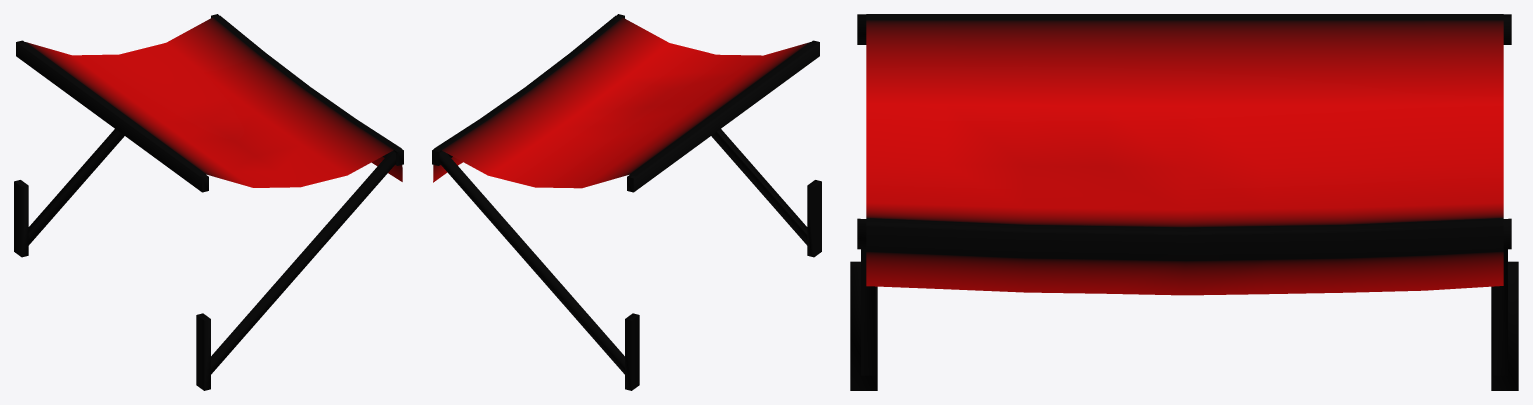
Rendered from tent_2.fbx.
3 views of the same model, side by side, from view 1: azimuth 30°, elevation 25°; view 2: azimuth 150°, elevation 25°; view 3: azimuth 270°, elevation 25° (orthographic). The views are drawn at different scales.
Parts seen in each view (by area): view 1: tent_2; view 2: tent_2; view 3: tent_2.
Part boxes in pixels (x1,y1,x2,y2): tent_2: (14, 14, 403, 390); tent_2: (432, 14, 821, 390); tent_2: (850, 14, 1518, 390).
Bounding box in the file's own units: 1.52 × 1.5 × 2.45.
